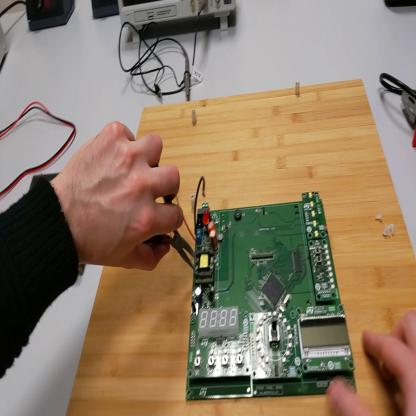hand: (58, 122, 185, 273), (327, 316, 416, 416)
low voltage board: (179, 175, 358, 400)
oscilloscope: (118, 2, 236, 46)
oscilloscope probe tip: (185, 51, 194, 105)
pliers: (146, 196, 201, 269), (403, 90, 416, 146)
power supply: (2, 21, 9, 75)
socket: (27, 1, 77, 32), (93, 1, 119, 21)
welder station: (385, 1, 416, 10)
working area: (68, 63, 416, 415)
